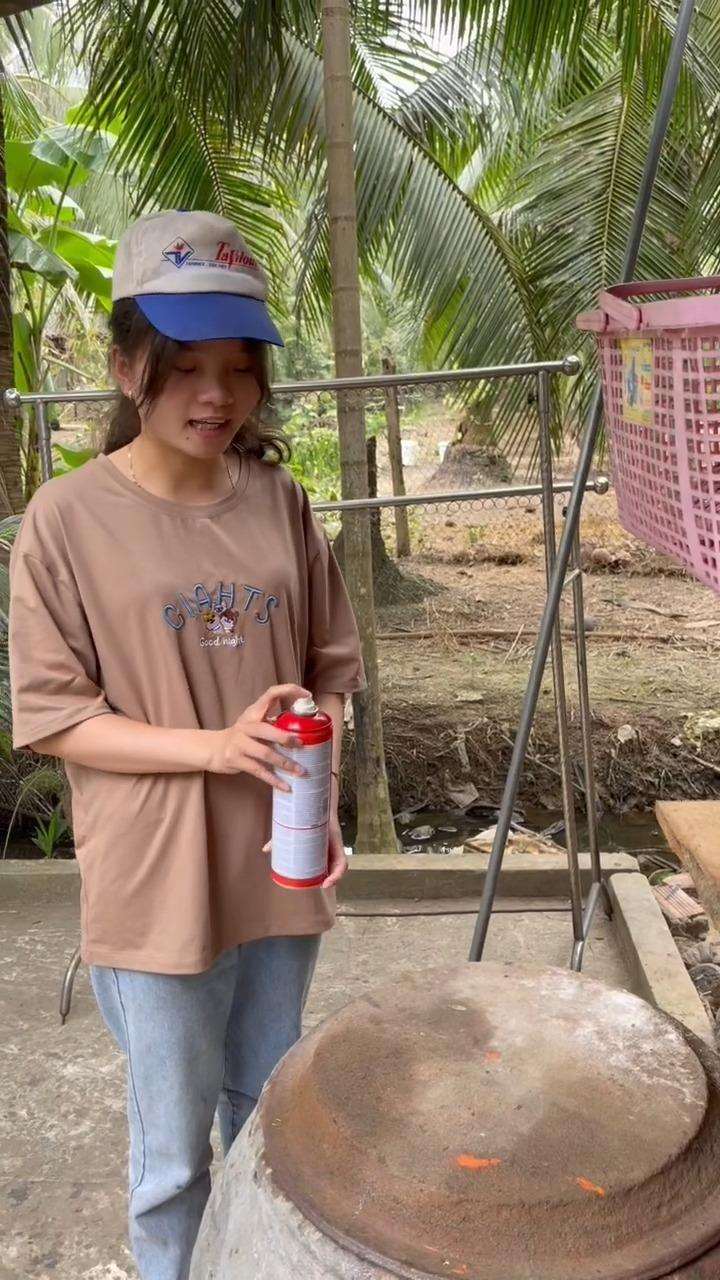FireExtinguisher: (248, 685, 344, 905)
